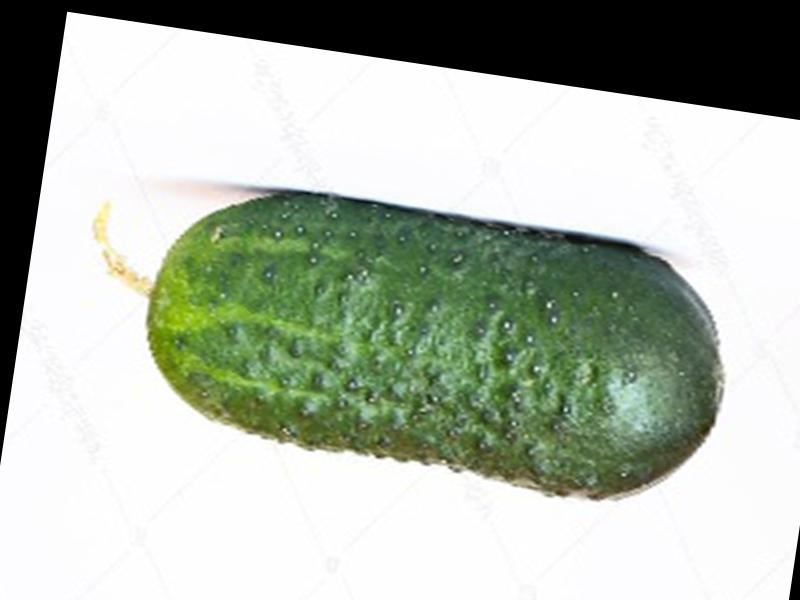Cucumber: (60, 165, 736, 513)
